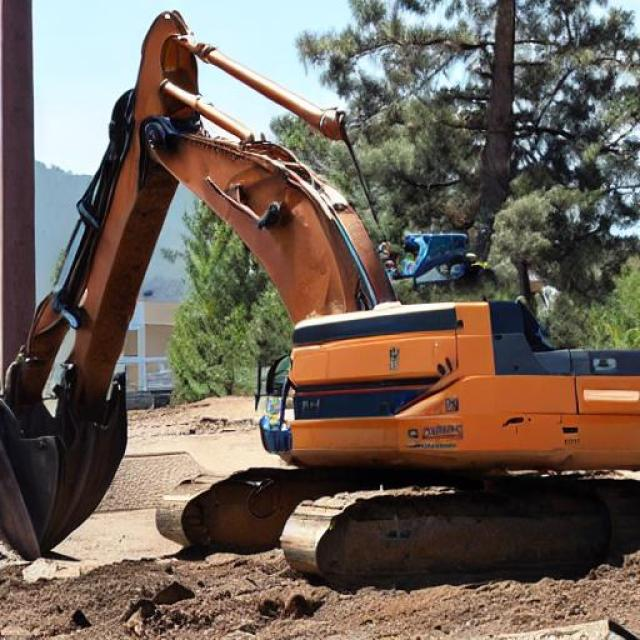excavator: (64, 170, 507, 431)
